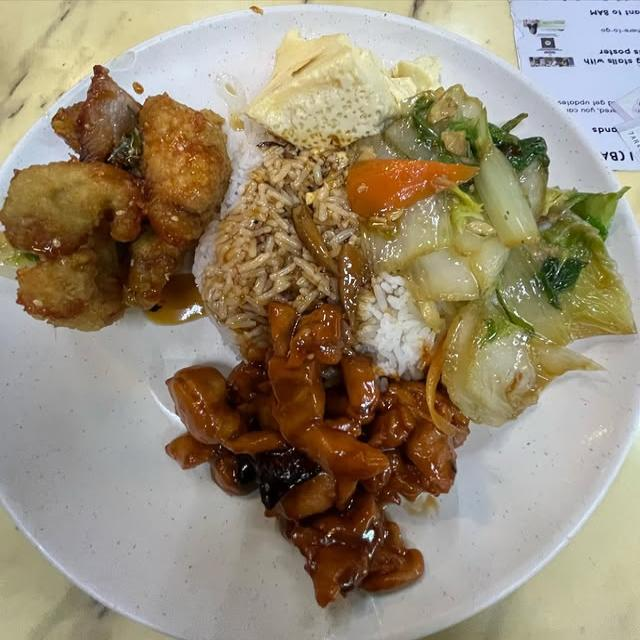Chicken: (166, 303, 468, 606)
Egg: (244, 30, 438, 150)
Fish: (0, 94, 230, 330)
Green veg: (350, 85, 636, 425)
Non green veg: (346, 158, 476, 217)
Rice: (192, 118, 358, 358), (348, 273, 434, 378)
